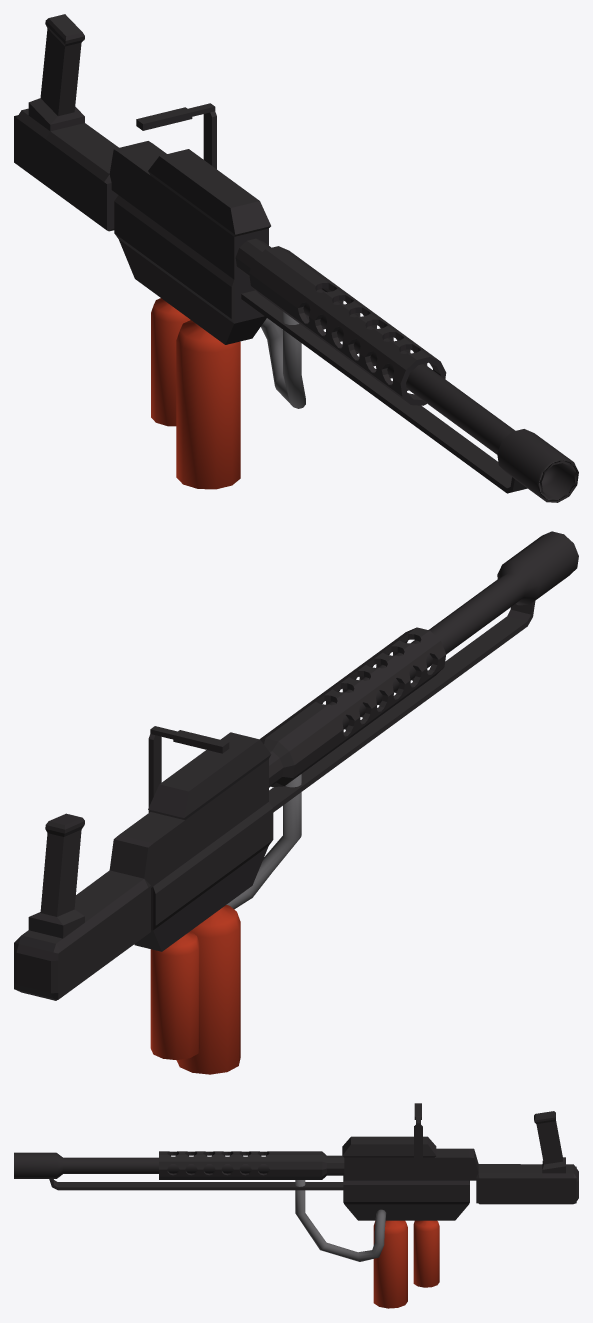
File: FlameThrower.fbx
The picture shows the model from 3 angles, top to bottom: view 1: azimuth 30°, elevation 25°; view 2: azimuth 150°, elevation 25°; view 3: azimuth 270°, elevation 25°; orthographic projection. The views are drawn at different scales.
Parts seen in each view (by area): view 1: FT_Holder, FT_Heater, FT_Gas01, FT_Muzzle, FT_MHold, FT_Gas02, FT_GasLine, FT_Grab; view 2: FT_Holder, FT_Heater, FT_Gas01, FT_Muzzle, FT_Gas02, FT_MHold, FT_GasLine, FT_Grab; view 3: FT_Holder, FT_Heater, FT_Muzzle, FT_Gas01, FT_MHold, FT_Gas02, FT_GasLine, FT_Grab.
Boxes of the visible parts, x1,y1,x2,y2 form: FT_Holder: (14,14,270,344); FT_Heater: (235,238,446,405); FT_Gas01: (176,320,240,489); FT_Muzzle: (303,289,578,502); FT_MHold: (241,290,527,493); FT_Gas02: (151,298,190,426); FT_GasLine: (261,311,305,408); FT_Grab: (136,103,216,168); FT_Holder: (14,732,273,1000); FT_Heater: (260,627,446,787); FT_Gas01: (177,905,240,1074); FT_Muzzle: (327,531,578,729); FT_Gas02: (150,931,199,1060); FT_MHold: (269,601,535,812); FT_GasLine: (226,774,301,909); FT_Grab: (148,726,229,812); FT_Holder: (342,1111,578,1220); FT_Heater: (159,1151,344,1179); FT_Muzzle: (14,1152,269,1178); FT_Gas01: (373,1220,407,1308); FT_MHold: (49,1179,343,1190); FT_Gas02: (413,1220,439,1287); FT_GasLine: (295,1180,386,1261); FT_Grab: (414,1103,422,1172).
Bounding box in the file's own units: 131 × 405 × 1102.
